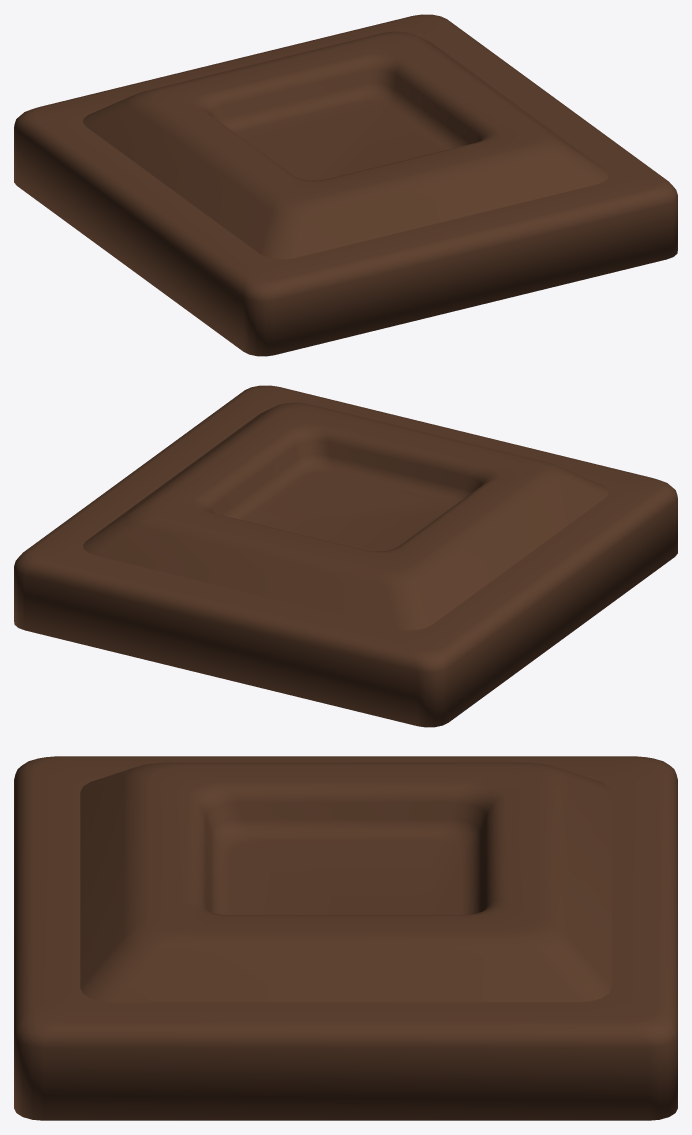
The model's file is chocolate1.fbx.
3 renders of one model, top to bottom at view 1: azimuth 30°, elevation 25°; view 2: azimuth 150°, elevation 25°; view 3: azimuth 270°, elevation 25°, orthographic. The views are drawn at different scales.
Visible parts, largest first — view 1: chocolate1; view 2: chocolate1; view 3: chocolate1.
Boxes of the visible parts, <box> form: chocolate1: <box>14,14,677,356</box>; chocolate1: <box>14,385,677,727</box>; chocolate1: <box>14,756,677,1120</box>.
Size of the model in its own units: 2 by 0.4361 by 2.
